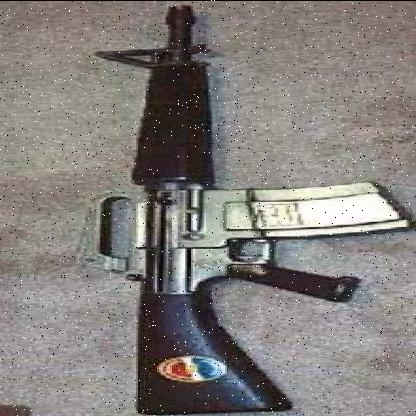rifle: (42, 3, 414, 416)
